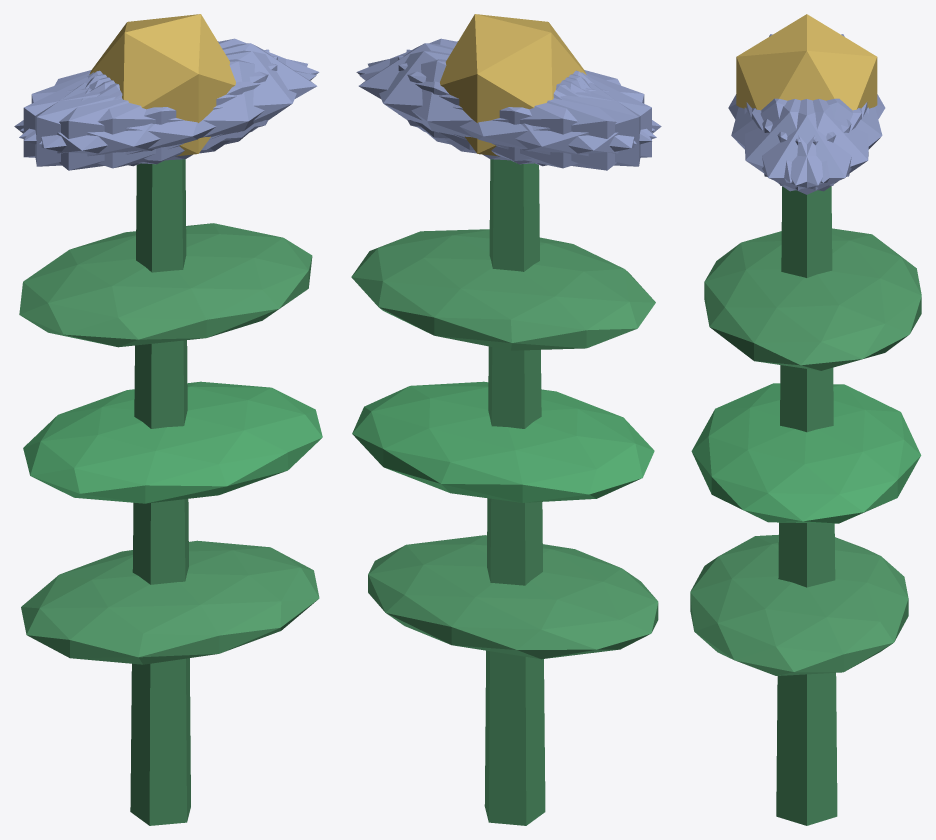
Rendered from jatropha-integerrima.glb.
3 views of the same model, side by side, from view 1: azimuth 30°, elevation 25°; view 2: azimuth 150°, elevation 25°; view 3: azimuth 270°, elevation 25° (orthographic).
Visible parts, largest first — view 1: leaf0, leaf1, leaf2, stem, center, petal1, petal6, petal2, petal5, petal7, petal0, petal4 (+2 smaller); view 2: leaf2, leaf1, leaf0, stem, center, petal8, petal3, petal7, petal4, petal2, petal0, petal5 (+2 smaller); view 3: leaf1, leaf2, leaf0, stem, center, petal0, petal4, petal5, petal8, petal1.
Part boxes in pixels (x1=…): leaf0: x1=21, y1=540, x2=319, y2=664; leaf1: x1=23, y1=381, x2=322, y2=503; leaf2: x1=19, y1=223, x2=312, y2=347; stem: x1=130, y1=159, x2=190, y2=825; center: x1=89, y1=14, x2=235, y2=156; petal1: x1=19, y1=59, x2=316, y2=168; petal6: x1=14, y1=72, x2=229, y2=170; petal2: x1=35, y1=49, x2=269, y2=166; petal5: x1=39, y1=50, x2=307, y2=160; petal7: x1=23, y1=56, x2=277, y2=164; petal0: x1=89, y1=43, x2=317, y2=150; petal4: x1=20, y1=38, x2=319, y2=141; leaf2: x1=351, y1=229, x2=655, y2=350; leaf1: x1=352, y1=381, x2=654, y2=502; leaf0: x1=368, y1=535, x2=658, y2=659; stem: x1=484, y1=159, x2=545, y2=825; center: x1=440, y1=14, x2=586, y2=156; petal8: x1=359, y1=59, x2=656, y2=168; petal3: x1=446, y1=72, x2=661, y2=170; petal7: x1=406, y1=49, x2=640, y2=166; petal4: x1=368, y1=50, x2=636, y2=160; petal2: x1=398, y1=56, x2=651, y2=164; petal0: x1=358, y1=43, x2=586, y2=150; petal5: x1=356, y1=38, x2=655, y2=141; leaf1: x1=691, y1=383, x2=921, y2=523; leaf2: x1=704, y1=228, x2=921, y2=370; leaf0: x1=690, y1=534, x2=908, y2=675; stem: x1=776, y1=186, x2=837, y2=825; center: x1=736, y1=14, x2=877, y2=110; petal0: x1=746, y1=99, x2=867, y2=194; petal4: x1=752, y1=99, x2=868, y2=191; petal5: x1=744, y1=99, x2=861, y2=191; petal8: x1=762, y1=98, x2=882, y2=182; petal1: x1=731, y1=98, x2=851, y2=182.
Bounding box in the file's own units: 0.1452 × 0.3744 × 0.1008.
